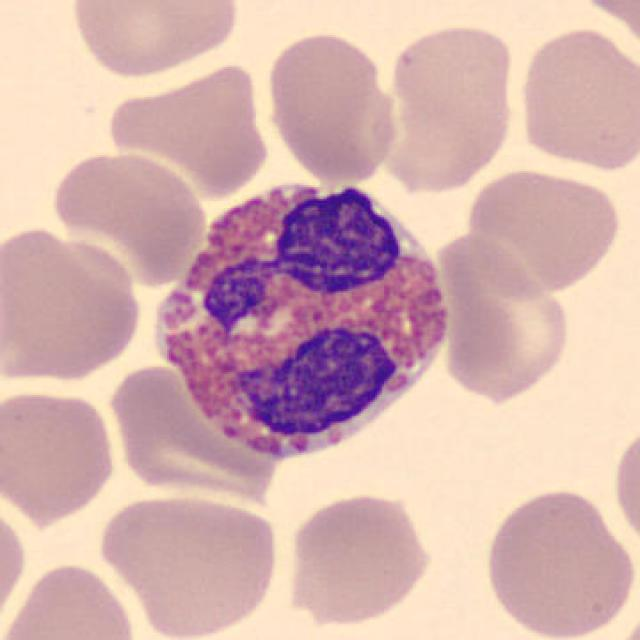Eosinophil: (144, 163, 464, 482)
RBC: (94, 488, 284, 640), (379, 18, 521, 194), (107, 364, 283, 506), (478, 483, 636, 640), (436, 229, 574, 407), (98, 59, 270, 200), (0, 222, 146, 386), (43, 146, 208, 289), (261, 28, 402, 187), (281, 488, 437, 630), (462, 164, 624, 296), (512, 23, 638, 174), (0, 386, 121, 526), (65, 0, 244, 81), (0, 557, 140, 640), (0, 495, 30, 635), (610, 419, 640, 554), (574, 0, 640, 53), (608, 603, 638, 640)
